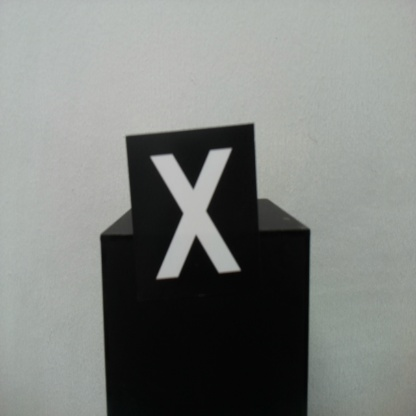id_13: (125, 134, 260, 297)
